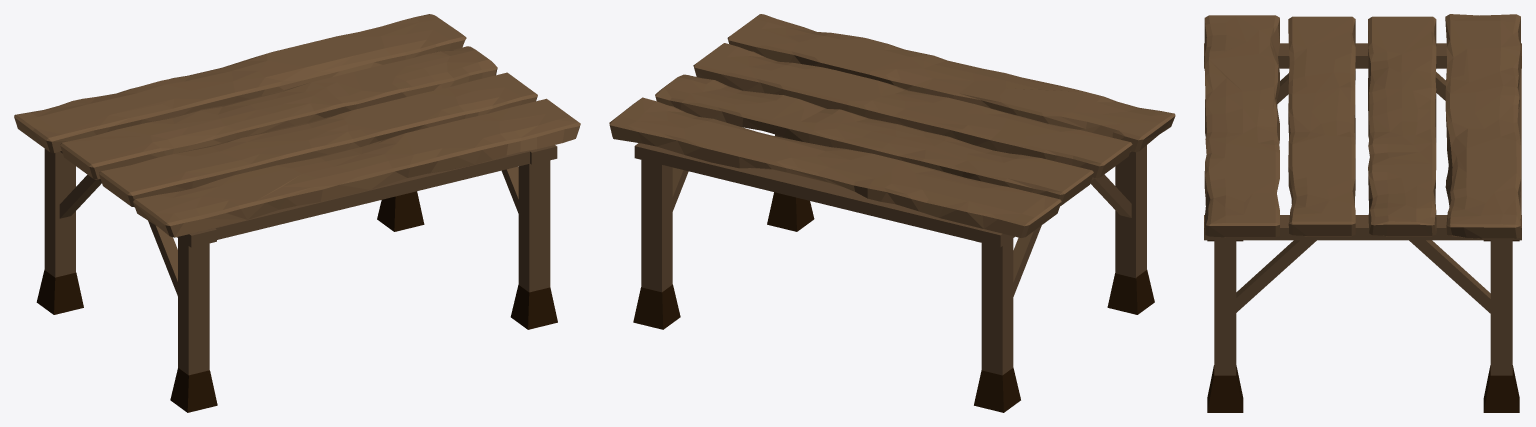
File: Table.fbx
3 views of the same model, side by side, from view 1: azimuth 30°, elevation 25°; view 2: azimuth 150°, elevation 25°; view 3: azimuth 270°, elevation 25° (orthographic). The views are drawn at different scales.
Parts seen in each view (by area): view 1: plank3.001, plank3.003, plank3.002, plank3.011, Cube.003, Cube.006, Cube.005, Cube.008, Cube.004, Cube.010, Cube.011, Cube.009 (+2 smaller); view 2: plank3.003, plank3.001, plank3.011, plank3.002, Cube.001, Cube.008, Cube.007, Cube.005, Cube.009, Cube.011, Cube.004, Cube.010 (+2 smaller); view 3: plank3.001, plank3.003, plank3.002, plank3.011, Cube.006, Cube.007, Cube.012, Cube.014, Cube.017, Cube.010, Cube.009, Cube.013 (+1 smaller).
Part boxes in pixels (<box>): plank3.001: <box>133,98,580,237</box>; plank3.003: <box>14,14,466,153</box>; plank3.002: <box>60,46,497,179</box>; plank3.011: <box>99,72,537,207</box>; Cube.003: <box>215,150,529,239</box>; Cube.006: <box>518,160,550,292</box>; Cube.005: <box>178,238,209,375</box>; Cube.008: <box>44,149,75,277</box>; Cube.004: <box>170,368,217,412</box>; Cube.010: <box>510,284,557,329</box>; Cube.011: <box>36,270,83,314</box>; Cube.009: <box>377,191,424,231</box>; plank3.003: <box>609,97,1061,237</box>; plank3.001: <box>727,14,1175,152</box>; plank3.011: <box>693,43,1132,178</box>; plank3.002: <box>655,74,1093,205</box>; Cube.001: <box>660,149,976,240</box>; Cube.008: <box>981,238,1013,375</box>; Cube.007: <box>641,160,672,292</box>; Cube.005: <box>1115,145,1146,278</box>; Cube.009: <box>633,284,680,329</box>; Cube.011: <box>974,367,1020,412</box>; Cube.004: <box>1107,270,1154,314</box>; Cube.010: <box>767,192,814,231</box>; plank3.001: <box>1204,15,1279,237</box>; plank3.003: <box>1445,14,1520,238</box>; plank3.002: <box>1368,16,1436,236</box>; plank3.011: <box>1288,16,1355,236</box>; Cube.006: <box>1214,240,1236,375</box>; Cube.007: <box>1490,240,1512,375</box>; Cube.012: <box>1204,215,1521,240</box>; Cube.014: <box>1409,240,1490,313</box>; Cube.017: <box>1236,240,1316,312</box>; Cube.010: <box>1207,365,1243,412</box>; Cube.009: <box>1483,365,1519,412</box>; Cube.013: <box>1204,43,1521,68</box>.
Bounding box in the file's own units: 364 × 161 × 230.
